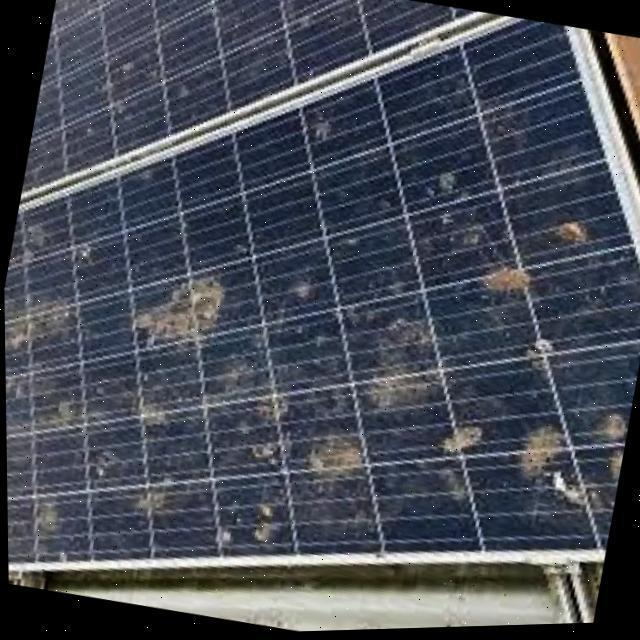Anomaly Solar Panel: (3, 19, 640, 566), (21, 0, 476, 195)
Surface Contaminant: (20, 0, 472, 197), (120, 303, 319, 471), (342, 304, 464, 424), (417, 411, 493, 517), (131, 271, 229, 343), (426, 168, 499, 264), (198, 481, 290, 556), (502, 409, 577, 500), (294, 424, 369, 492), (3, 288, 77, 354), (118, 467, 195, 530), (546, 212, 612, 262), (607, 36, 640, 130), (21, 490, 72, 549), (593, 409, 628, 489), (480, 260, 542, 298)
